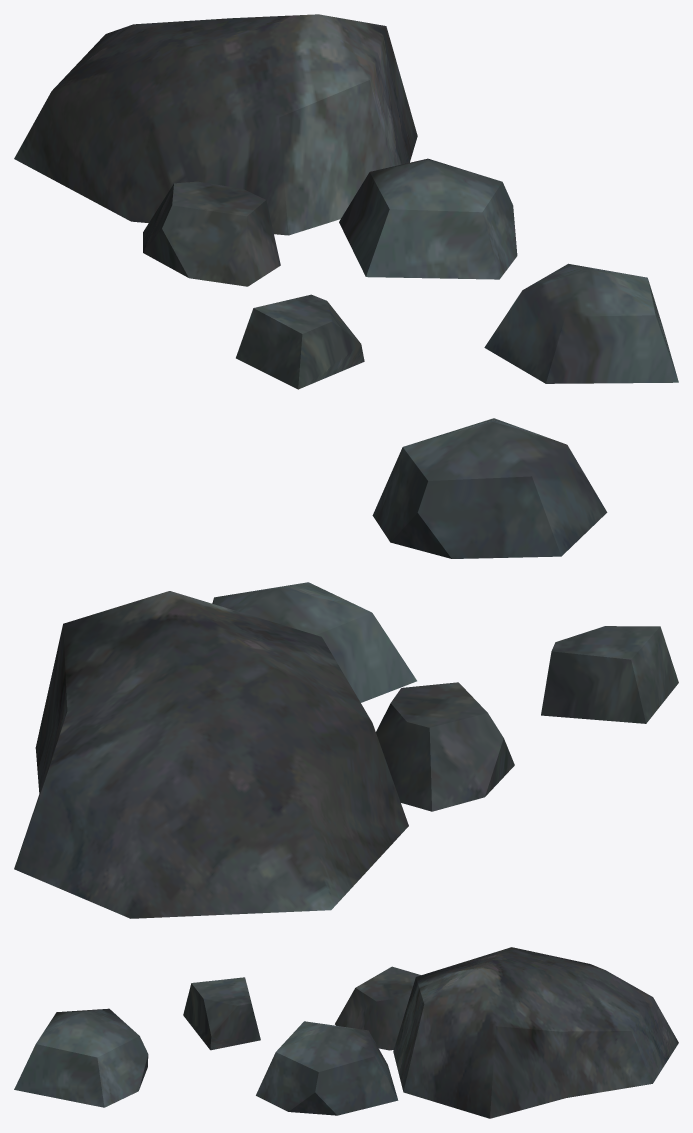
Rendered from object_rubble17.fbx.
3 renders of one model, top to bottom at view 1: azimuth 30°, elevation 25°; view 2: azimuth 150°, elevation 25°; view 3: azimuth 270°, elevation 25°, orthographic. The views are drawn at different scales.
Parts seen in each view (by area): view 1: Material_#238683587/cliffside; view 2: Material_#238683587/cliffside; view 3: Material_#238683587/cliffside.
Boxes of the visible parts, x1=… form: Material_#238683587/cliffside: x1=14, y1=14, x2=678, y2=389; Material_#238683587/cliffside: x1=14, y1=418, x2=678, y2=918; Material_#238683587/cliffside: x1=14, y1=947, x2=678, y2=1118.
Bounding box in the file's own units: 0.9504 × 0.4656 × 2.16.
